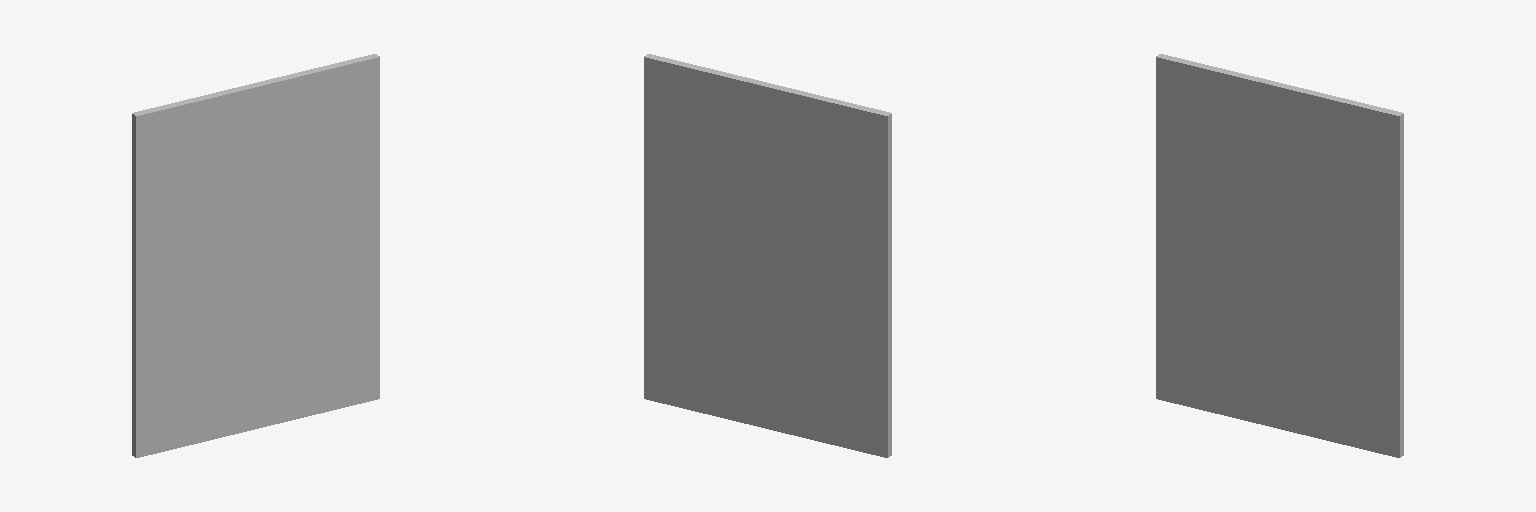
Rendered from puertaUno.obj.
The picture shows the model from 3 angles: view 1: azimuth 30°, elevation 25°; view 2: azimuth 150°, elevation 25°; view 3: azimuth 330°, elevation 25°; orthographic projection.
Visible parts, largest first — view 1: polySurface6584 puertaUno:pasted__pasted__FachadaFinal_pCube8; view 2: polySurface6584 puertaUno:pasted__pasted__FachadaFinal_pCube8; view 3: polySurface6584 puertaUno:pasted__pasted__FachadaFinal_pCube8.
Part boxes in pixels (bbox=[...]): polySurface6584 puertaUno:pasted__pasted__FachadaFinal_pCube8: bbox=[132, 54, 379, 457]; polySurface6584 puertaUno:pasted__pasted__FachadaFinal_pCube8: bbox=[644, 54, 891, 457]; polySurface6584 puertaUno:pasted__pasted__FachadaFinal_pCube8: bbox=[1156, 54, 1403, 457].
Bounding box in the file's own units: 2.44 × 3.26 × 0.08.